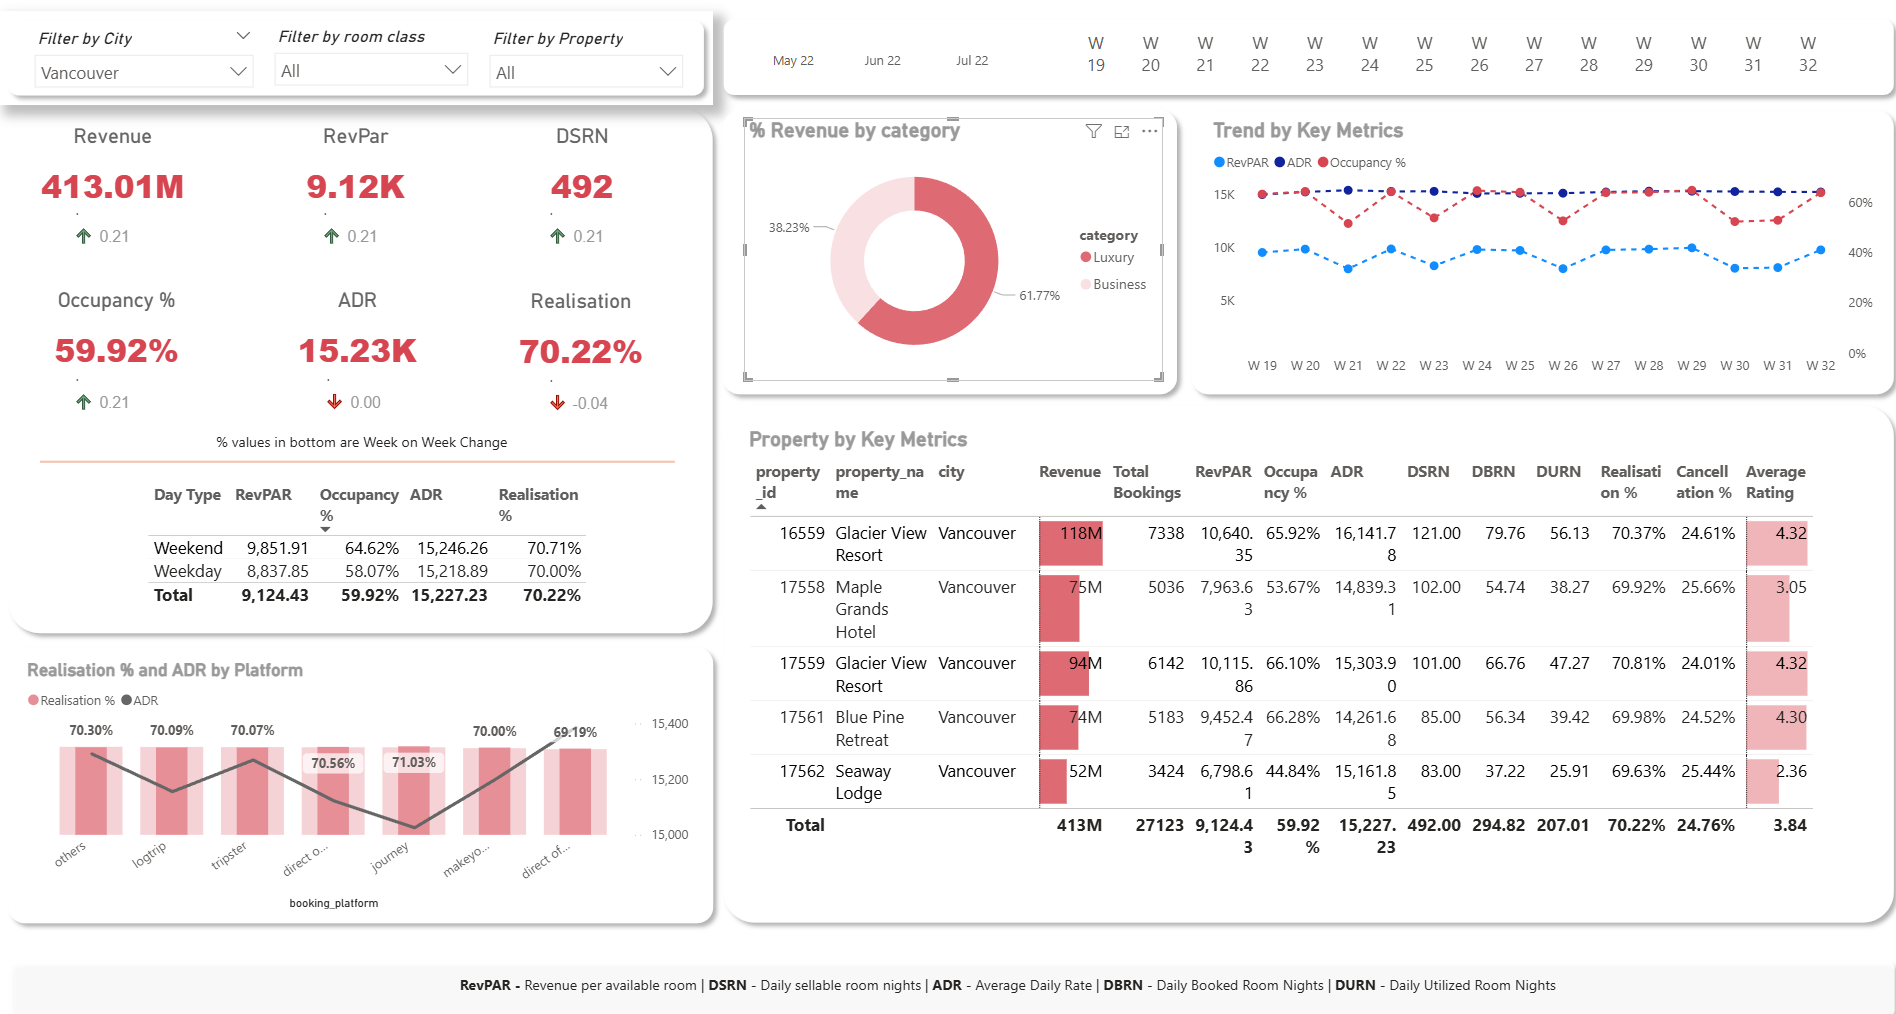

The dashboard page shown, as its layout file describes it:
{"tool":"powerbi","page":{"name":"Page 2","canvas":[1800,1100],"ordinal":1},"visuals":[{"type":"shape","box":[676,488,1124,506.7],"z":0},{"type":"shape","box":[1118.3,208.6,681.7,286.1],"z":1000},{"type":"shape","box":[0,716,684,278.7],"z":2000},{"type":"shape","box":[0.2,207,683.4,513.9],"z":3000},{"type":"shape","box":[0.2,123.6,675.2,88.8],"z":4000},{"type":"shape","box":[675.1,208.6,447.6,286.1],"z":5000},{"type":"slicer","fields":{"Values":["dim_rooms.room_class"]},"box":[250.7,133.3,202.7,72],"z":6000},{"type":"slicer","fields":{"Values":["dim_hotels.city"]},"box":[24,134.7,226.7,76],"z":7000},{"type":"card","title":"Revenue","fields":{"Values":["key_measures.Revenue"]},"box":[30.7,230.7,154.7,95.8],"z":8000,"group":"g2"},{"type":"tableEx","title":"Property by Key Metrics","fields":{"Values":["dim_hotels.property_id","dim_hotels.property_name","dim_hotels.city","key_measures.Revenue","key_measures.Total Bookings","key_measures.Rev Par","key_measures.Occupancy %","key_measures.ADR","key_measures.DSRN","key_measures.DBRN","key_measures.DURN","key_measures.Realisation %"]},"box":[704,517.3,1053.3,445.3],"z":8000},{"type":"lineChart","title":"Trend by Key Metrics","fields":{"Category":["dim_date.mmm yy.Variation.Date Hierarchy.Month","dim_date.week no"],"Y2":["key_measures.Occupancy %"],"Y":["key_measures.Rev Par","key_measures.ADR"]},"box":[1142.7,225.3,633.3,252],"z":9000},{"type":"card","title":"RevPar","fields":{"Values":["key_measures.Rev Par"]},"box":[257.9,230.7,160.2,95.8],"z":9000,"group":"g2"},{"type":"card","title":"Occupancy %","fields":{"Values":["key_measures.Occupancy %"]},"box":[14.7,386.3,192,96],"z":9000,"group":"g1"},{"type":"tableEx","fields":{"Values":["dim_date.day type","key_measures.Rev Par","key_measures.Occupancy %","key_measures.ADR","key_measures.Realisation %"]},"box":[135.1,564.9,437.2,129.8],"z":10000},{"type":"card","title":"DSRN","fields":{"Values":["key_measures.DSRN"]},"box":[456.5,231.1,189.3,96],"z":11000,"group":"g2"},{"type":"lineStackedColumnComboChart","title":"Realisation % and ADR by Platform","fields":{"Category":["fact_bookings.booking_platform"],"Y":["key_measures.Realisation %"],"Y2":["key_measures.ADR"]},"box":[21.3,736,634.7,241.3],"z":11000},{"type":"group","id":"g1","title":"Group 1","box":[14.7,385.9,632.4,96.9],"z":12000},{"type":"card","title":"ADR","fields":{"Values":["key_measures.ADR"]},"box":[241.4,385.9,193.3,96],"z":12000,"group":"g1"},{"type":"slicer","fields":{"Values":["dim_hotels.property_name"]},"box":[453.3,134.7,202.7,72],"z":13000},{"type":"card","title":"Realisation","fields":{"Values":["key_measures.Realisation %"]},"box":[452.5,386.8,194.7,96],"z":13000,"group":"g1"},{"type":"group","id":"g2","title":"Group 2","box":[30.7,230.7,615.1,96.4],"z":14000},{"type":"tableEx","fields":{"Values":["key_measures.Revpar WoW change %"]},"box":[296,297.3,92,58.7],"z":15000},{"type":"shape","box":[38.7,542.7,600,14.7],"z":16000},{"type":"tableEx","fields":{"Values":["key_measures.Revpar WoW change %"]},"box":[61.3,297.3,92,58.7],"z":17000},{"type":"tableEx","fields":{"Values":["key_measures.Revpar WoW change %"]},"box":[509.3,297.3,92,58.7],"z":18000},{"type":"donutChart","title":"% Revenue by category","fields":{"Category":["dim_hotels.category"],"Y":["key_measures.Revenue"]},"box":[704,225.3,396,248],"z":19000},{"type":"group","id":"g3","title":"Group 3","box":[61.3,454.3,540,60],"z":20000},{"type":"textbox","box":[200,517.3,308,33.3],"z":21000},{"type":"shape","box":[676,122.7,1124,89.3],"z":22000},{"type":"slicer","fields":{"Values":["dim_date.mmm yy"]},"box":[683.6,145.5,302.1,47.8],"z":23000},{"type":"slicer","fields":{"Values":["dim_date.week no"]},"box":[985.7,131.4,773,62.4],"z":24000},{"type":"shape","box":[0,1013.1,1800.3,69.9],"z":25000},{"type":"textbox","box":[345,1030.2,1213.3,37.6],"z":26000},{"type":"tableEx","fields":{"Values":["key_measures.Occupancy WoW change %"]},"box":[61.3,454.3,92,58.7],"z":27000,"group":"g3"},{"type":"tableEx","fields":{"Values":["key_measures.ADR WoW change %"]},"box":[298.6,454.3,92,58.7],"z":28000,"group":"g3"},{"type":"tableEx","fields":{"Values":["key_measures.Realisation WoW change %"]},"box":[509.3,455.6,92,58.7],"z":29000,"group":"g3"}]}

Visuals, with their boxes on the page's 1800x1100 design canvas (x1, y1, x2, y2). These are canvas units, not pixel positions in the 1896x1014 screenshot, which may show the page scaled, cropped or inside an application window:
shape: bbox(676, 488, 1800, 995)
shape: bbox(1118, 209, 1800, 495)
shape: bbox(0, 716, 684, 995)
shape: bbox(0, 207, 684, 721)
shape: bbox(0, 124, 675, 212)
shape: bbox(675, 209, 1123, 495)
slicer - dim_rooms.room_class: bbox(251, 133, 453, 205)
slicer - dim_hotels.city: bbox(24, 135, 251, 211)
"Revenue" card: bbox(31, 231, 185, 326)
"Property by Key Metrics" tableEx: bbox(704, 517, 1757, 963)
"Trend by Key Metrics" lineChart: bbox(1143, 225, 1776, 477)
"RevPar" card: bbox(258, 231, 418, 326)
"Occupancy %" card: bbox(15, 386, 207, 482)
tableEx - dim_date.day type x key_measures.Rev Par: bbox(135, 565, 572, 695)
"DSRN" card: bbox(456, 231, 646, 327)
"Realisation % and ADR by Platform" lineStackedColumnComboChart: bbox(21, 736, 656, 977)
"Group 1" group: bbox(15, 386, 647, 483)
"ADR" card: bbox(241, 386, 435, 482)
slicer - dim_hotels.property_name: bbox(453, 135, 656, 207)
"Realisation" card: bbox(452, 387, 647, 483)
"Group 2" group: bbox(31, 231, 646, 327)
tableEx - key_measures.Revpar WoW change %: bbox(296, 297, 388, 356)
shape: bbox(39, 543, 639, 557)
tableEx - key_measures.Revpar WoW change %: bbox(61, 297, 153, 356)
tableEx - key_measures.Revpar WoW change %: bbox(509, 297, 601, 356)
"% Revenue by category" donutChart: bbox(704, 225, 1100, 473)
"Group 3" group: bbox(61, 454, 601, 514)
textbox: bbox(200, 517, 508, 551)
shape: bbox(676, 123, 1800, 212)
slicer - dim_date.mmm yy: bbox(684, 146, 986, 193)
slicer - dim_date.week no: bbox(986, 131, 1759, 194)
shape: bbox(0, 1013, 1800, 1083)
textbox: bbox(345, 1030, 1558, 1068)
tableEx - key_measures.Occupancy WoW change %: bbox(61, 454, 153, 513)
tableEx - key_measures.ADR WoW change %: bbox(299, 454, 391, 513)
tableEx - key_measures.Realisation WoW change %: bbox(509, 456, 601, 514)
